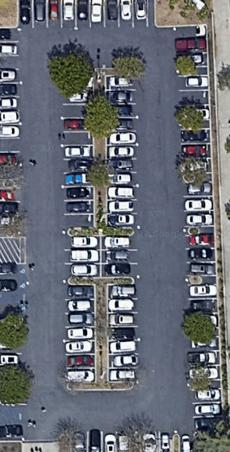parkingspot: (105, 73, 140, 229), (60, 75, 95, 229), (16, 0, 156, 32), (0, 27, 24, 181), (63, 283, 97, 385), (107, 283, 140, 383), (0, 262, 29, 324), (99, 235, 139, 279), (174, 75, 211, 121), (177, 127, 213, 174), (189, 387, 225, 434), (63, 235, 101, 279), (184, 283, 220, 329), (186, 335, 222, 381), (171, 24, 209, 67), (181, 181, 215, 228), (183, 233, 217, 277), (69, 429, 133, 452), (0, 403, 28, 442), (0, 187, 23, 229), (139, 429, 175, 452), (0, 352, 25, 368), (179, 431, 195, 452)
